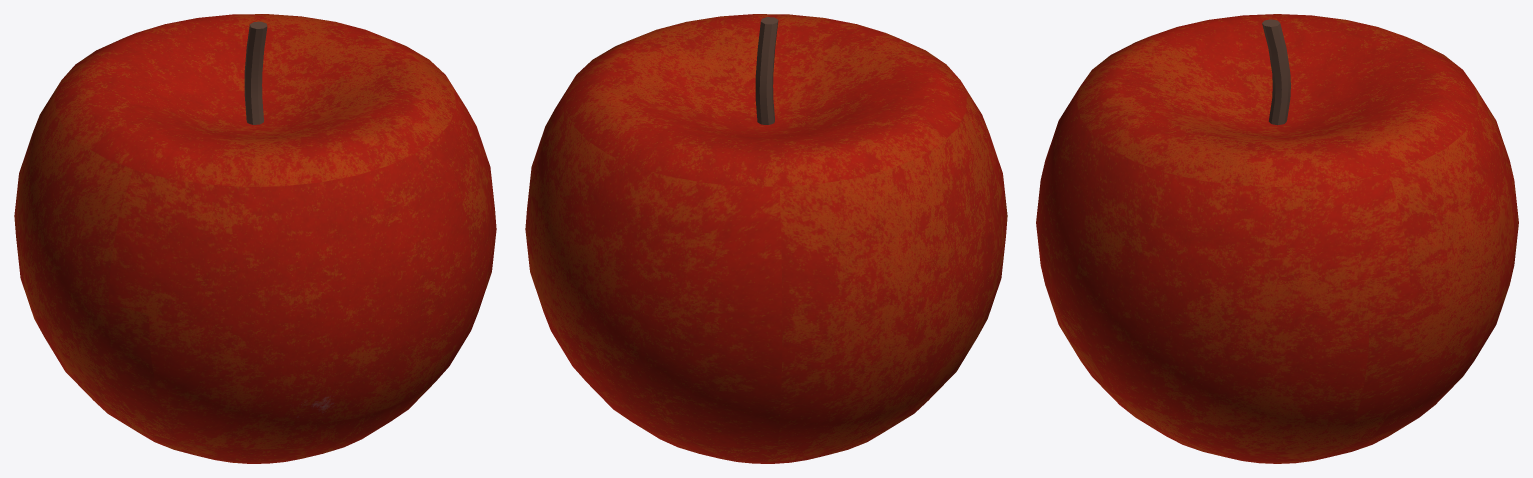
File: red_apple.fbx
3 renders of one model, left to right at view 1: azimuth 30°, elevation 25°; view 2: azimuth 150°, elevation 25°; view 3: azimuth 270°, elevation 25°, orthographic.
Parts seen in each view (by area): view 1: red_apple; view 2: red_apple; view 3: red_apple.
Boxes of the visible parts, x1,y1,x2,y2 form: red_apple: [14, 14, 496, 463]; red_apple: [525, 14, 1007, 463]; red_apple: [1036, 14, 1518, 463].
Size of the model in its own units: 6 by 5.74 by 6.
Materials: 2 (1 with a texture image).
